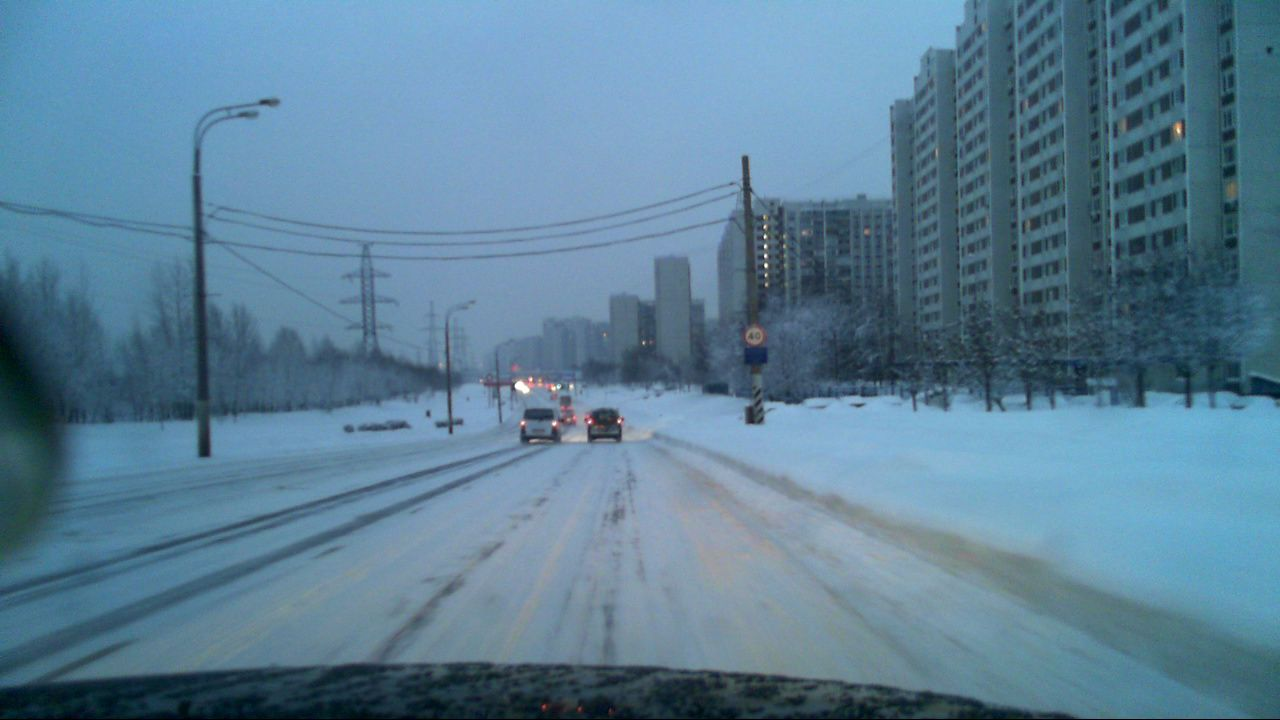speed_warning_40: (744, 326, 771, 348)
